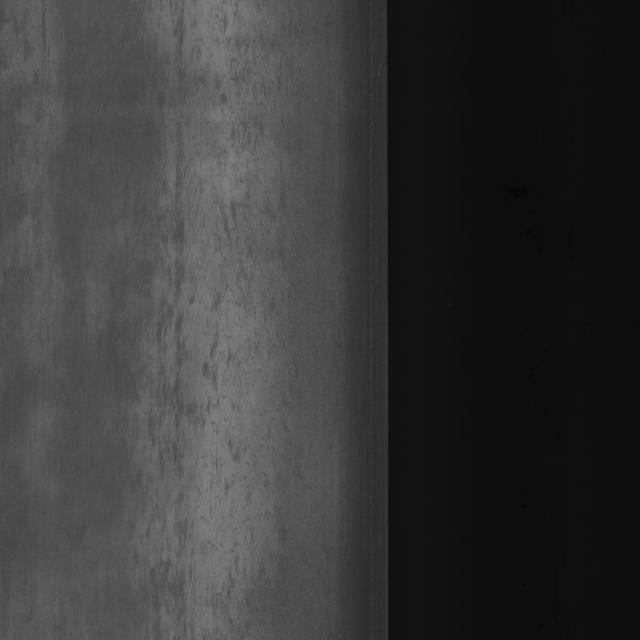inclusion: (165, 160, 282, 330)
